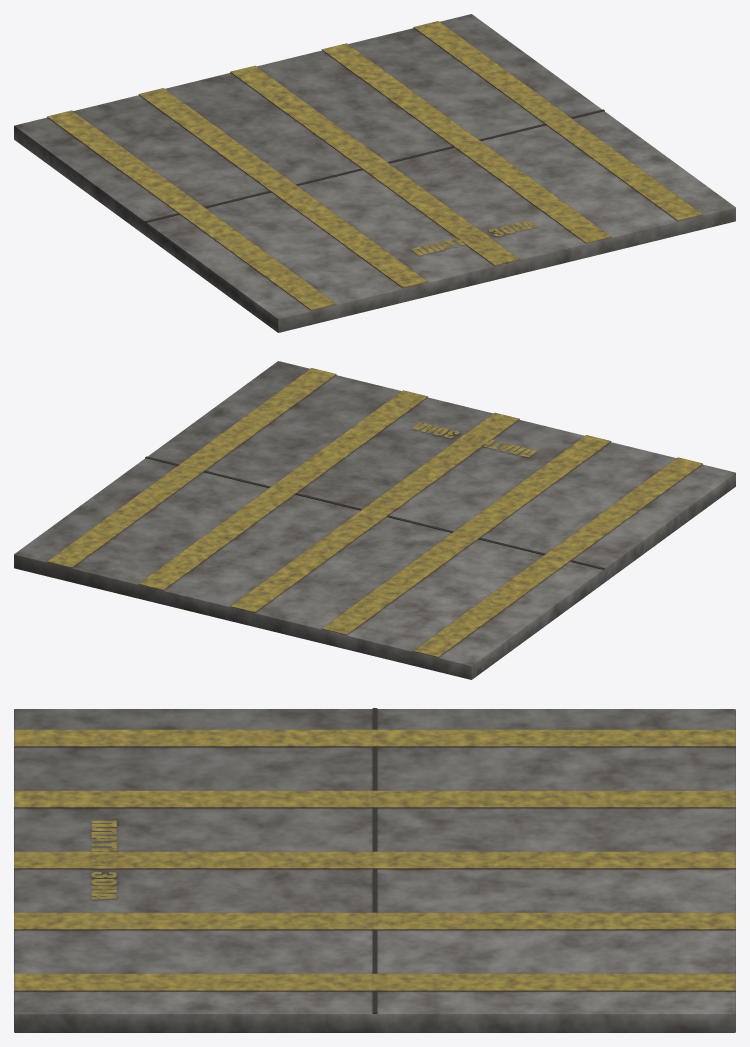
Rendered from g67_pz_floor_toll.glb.
The picture shows the model from 3 angles, top to bottom: view 1: azimuth 30°, elevation 25°; view 2: azimuth 150°, elevation 25°; view 3: azimuth 270°, elevation 25°; orthographic projection. The views are drawn at different scales.
Visible parts, largest first — view 1: g67_pz_floor_toll; view 2: g67_pz_floor_toll; view 3: g67_pz_floor_toll.
Part boxes in pixels (box(x1,y1,x2,y2)): g67_pz_floor_toll: box(14, 14, 735, 332); g67_pz_floor_toll: box(14, 361, 735, 679); g67_pz_floor_toll: box(14, 708, 735, 1032).
Size of the model in its own units: 4 by 0.128 by 4.
Materials: 1 (1 with a texture image).
